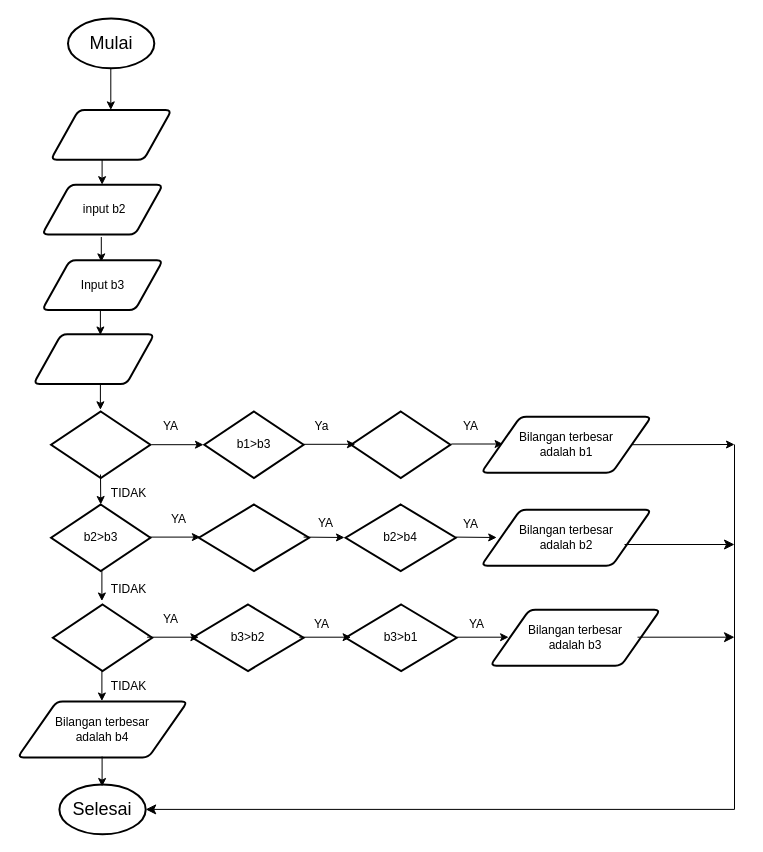
Some shapes in this 763 by 852 pixel diagram are drawn without their labels. The shapes that lost their labels are listed below. From the top down, each one's centre as x and y in pixels, then its label:
the point at 110,134: Input b1
the point at 93,358: Input b4
the point at 100,444: b1>b2
the point at 400,444: b1>b4
the point at 253,537: b2>b1
the point at 102,637: b3>b4
